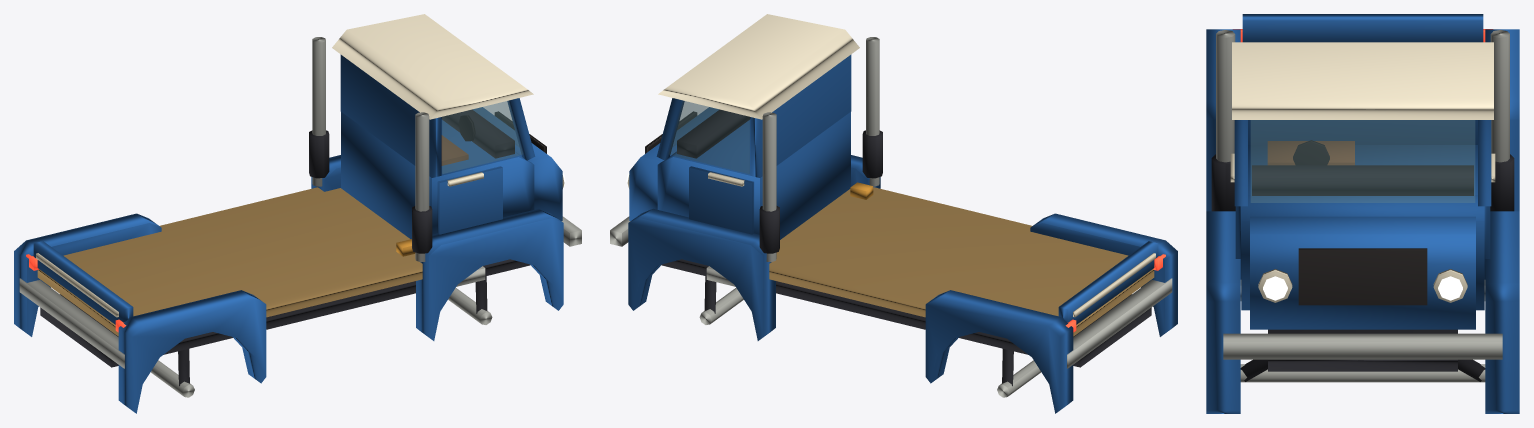
File: truck_hauler_lod1.glb
3 views of the same model, side by side, from view 1: azimuth 30°, elevation 25°; view 2: azimuth 150°, elevation 25°; view 3: azimuth 270°, elevation 25° (orthographic). The views are drawn at different scales.
Parts seen in each view (by area): view 1: Ladder frame, Windscreen, Stamped half-door.001, Tailgate, Axle shaft, Axle shaft.001; view 2: Ladder frame, Windscreen, Tailgate, Axle shaft, Axle shaft.001; view 3: Ladder frame, Windscreen, Tailgate, Axle shaft.001, Headlamp lens, Stamped half-door.001.
Boxes of the visible parts, box(x1,y1,x2,y2) form: Ladder frame: box(14, 14, 581, 413); Windscreen: box(442, 101, 522, 173); Stamped half-door.001: box(437, 166, 502, 234); Tailgate: box(33, 241, 133, 324); Axle shaft: box(151, 349, 194, 397); Axle shaft.001: box(448, 276, 492, 324); Ladder frame: box(610, 14, 1177, 413); Windscreen: box(669, 101, 749, 173); Tailgate: box(1058, 241, 1158, 324); Axle shaft: box(997, 349, 1040, 397); Axle shaft.001: box(699, 276, 743, 324); Ladder frame: box(1206, 29, 1519, 413); Windscreen: box(1251, 120, 1474, 202); Tailgate: box(1242, 14, 1483, 42); Axle shaft.001: box(1240, 359, 1485, 382); Headlamp lens: box(1263, 276, 1462, 300); Stamped half-door.001: box(1230, 153, 1241, 279).
Size of the model in its own units: 4.93 by 2.41 by 2.19.
